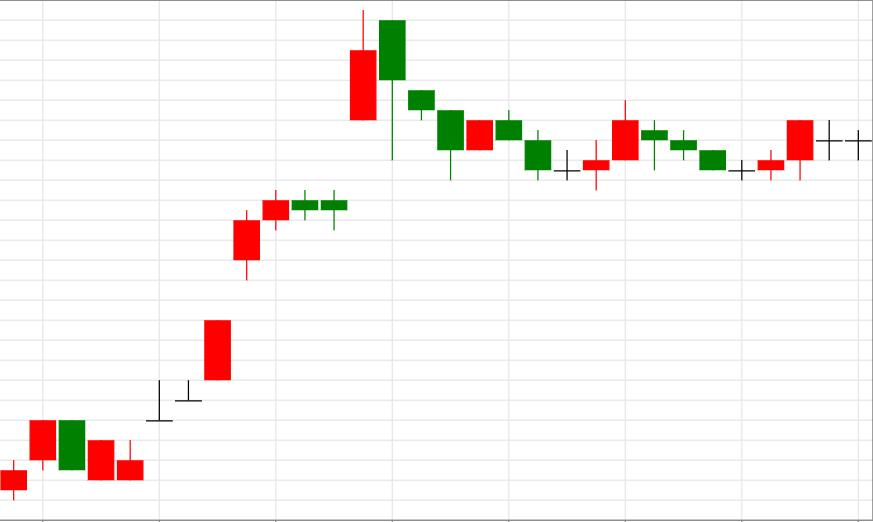hanging_man_fall: (117, 10, 405, 481)
